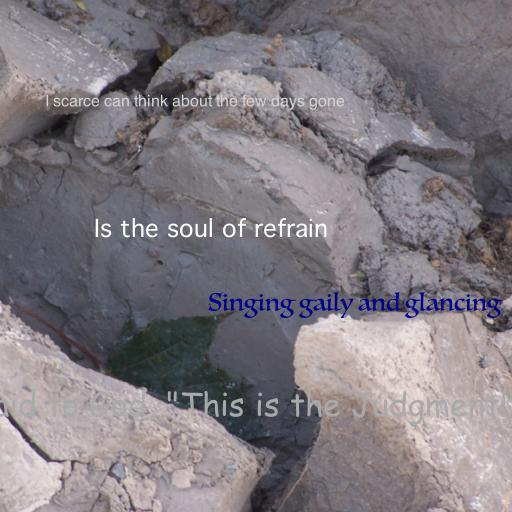Comic Sans MS: (0, 390, 512, 425)
Geneva: (94, 218, 328, 238)
Luminari: (207, 292, 501, 319)
SignPainter: (45, 94, 345, 110)
